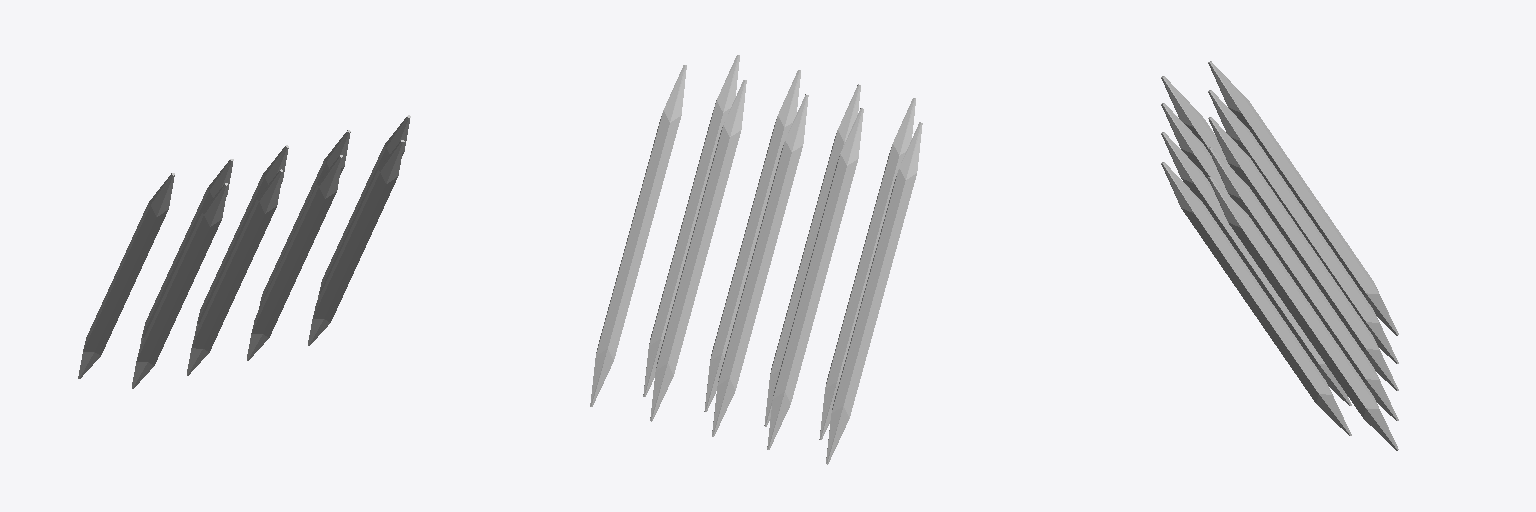
File: aSpikeBarriers.obj
3 renders of one model, left to right at view 1: azimuth 30°, elevation 25°; view 2: azimuth 150°, elevation 25°; view 3: azimuth 270°, elevation 25°, orthographic.
Parts seen in each view (by area): view 1: Cylinder.008_Cylinder.023; view 2: Cylinder.008_Cylinder.023; view 3: Cylinder.008_Cylinder.023.
Boxes of the visible parts, x1=… form: Cylinder.008_Cylinder.023: x1=78, y1=115, x2=410, y2=388; Cylinder.008_Cylinder.023: x1=590, y1=55, x2=922, y2=464; Cylinder.008_Cylinder.023: x1=1161, y1=61, x2=1398, y2=450.
Size of the model in its own units: 0.5237 by 0.5388 by 0.4232.